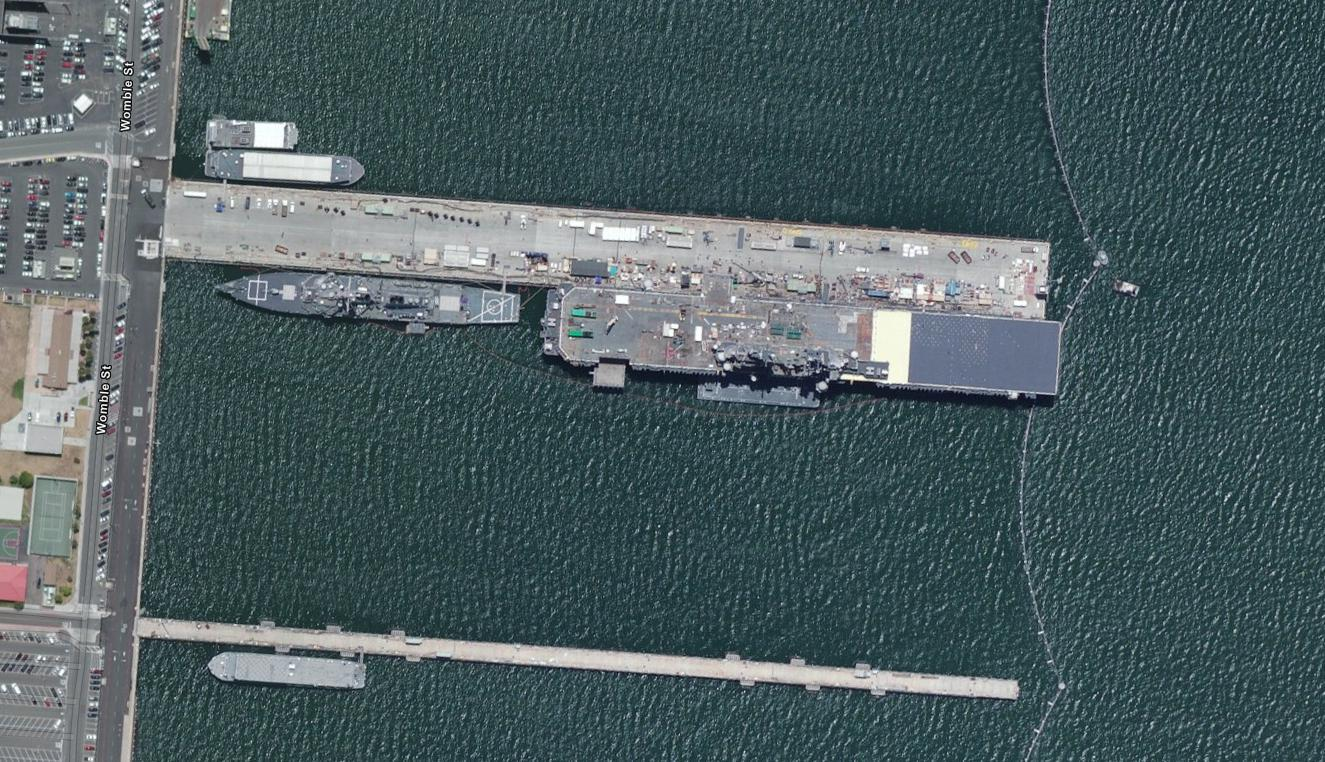fregate: (206, 261, 525, 335)
pha: (532, 274, 1078, 414)
